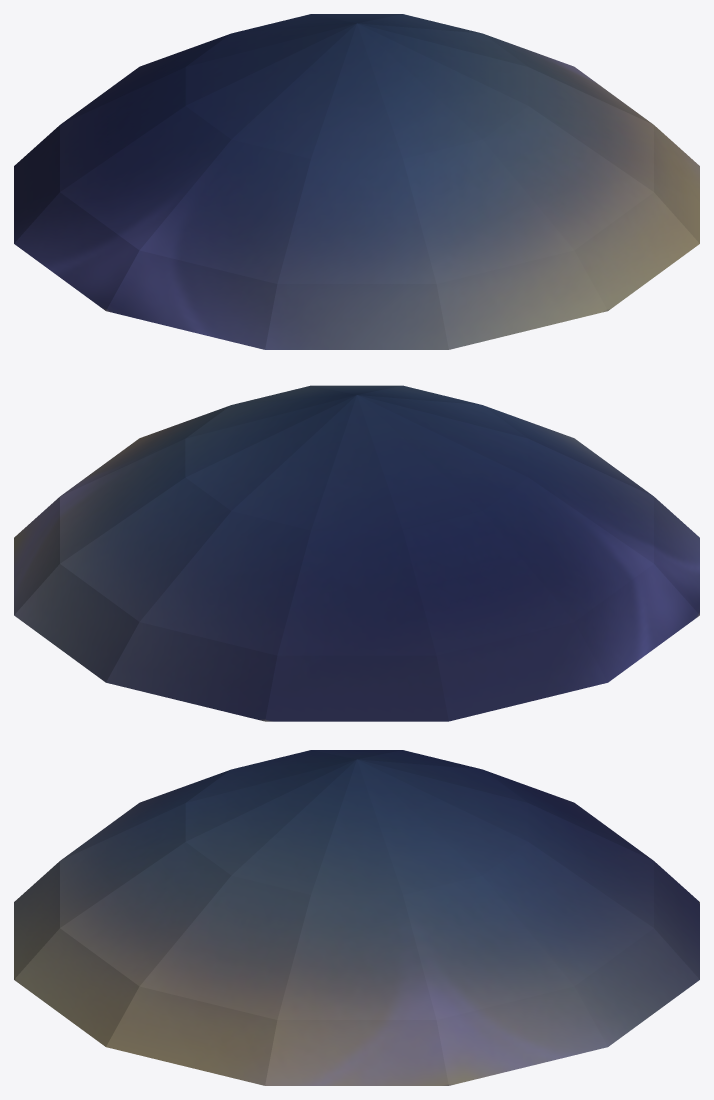
File: Sky_icefields.obj
3 views of the same model, one above another, from view 1: azimuth 30°, elevation 25°; view 2: azimuth 150°, elevation 25°; view 3: azimuth 270°, elevation 25° (orthographic).
Visible parts, largest first — view 1: 00_sky; view 2: 00_sky; view 3: 00_sky.
Part boxes in pixels (x1,y1,x2,y2): 00_sky: (14,14,699,349); 00_sky: (14,385,699,721); 00_sky: (14,750,699,1085).
Size of the model in its own units: 1.07e+07 by 3140842 by 1.07e+07.
